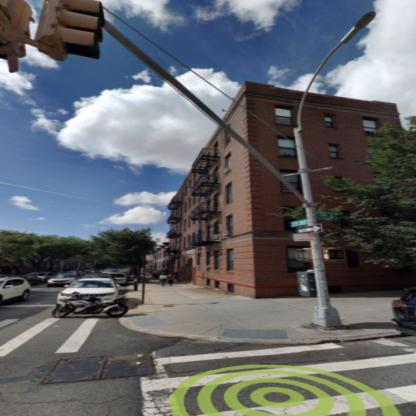Streetlights 1: (242, 7, 390, 348)
